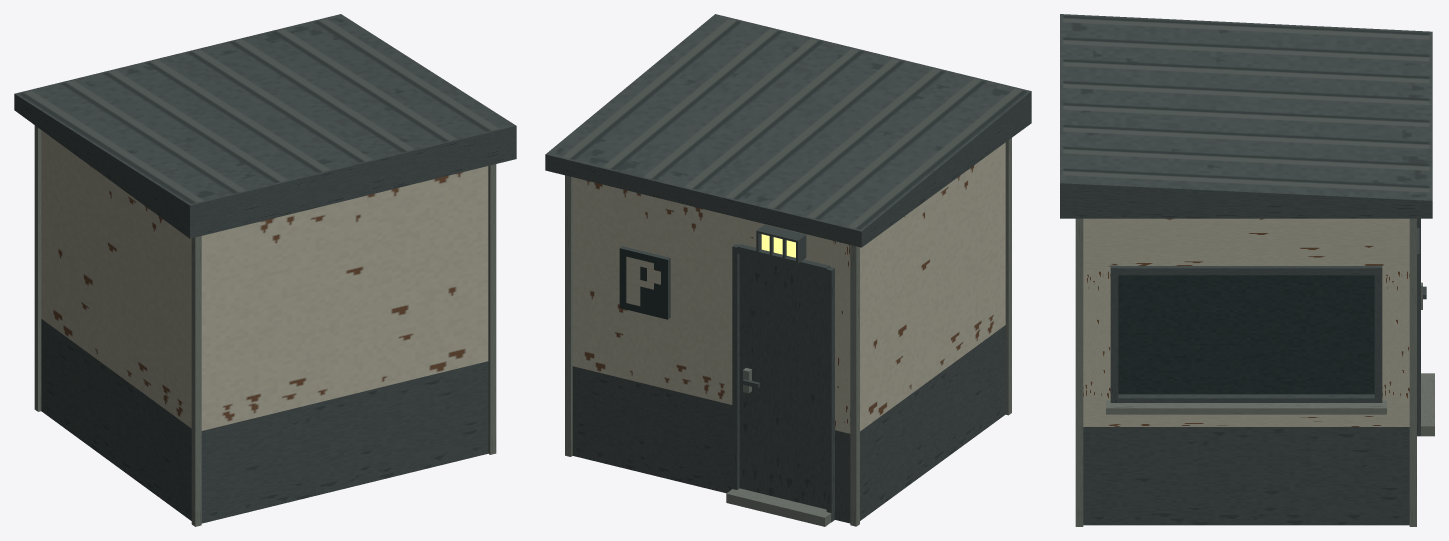
Rendered from GuardBooth.fbx.
3 renders of one model, left to right at view 1: azimuth 30°, elevation 25°; view 2: azimuth 150°, elevation 25°; view 3: azimuth 270°, elevation 25°, orthographic. The views are drawn at different scales.
Visible parts, largest first — view 1: GuardBooth; view 2: GuardBooth; view 3: GuardBooth.
Boxes of the visible parts, bbox=[...] form: GuardBooth: bbox=[14, 14, 516, 526]; GuardBooth: bbox=[545, 14, 1031, 526]; GuardBooth: bbox=[1060, 14, 1434, 526].
Size of the model in its own units: 288 by 278 by 270.
